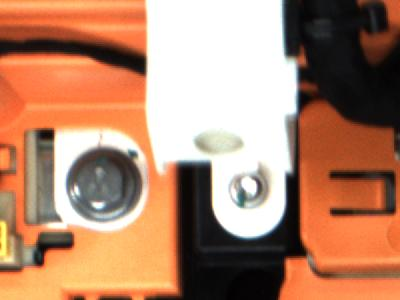nut_b: (66, 149, 149, 218)
